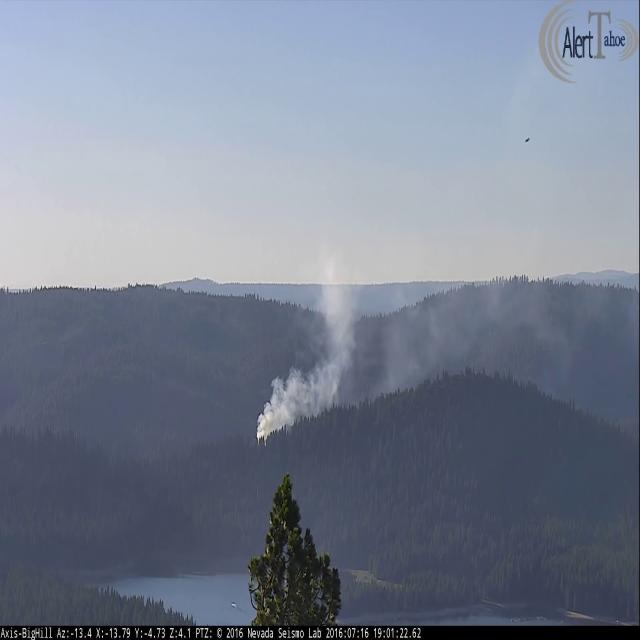smoke: (257, 94, 632, 442)
